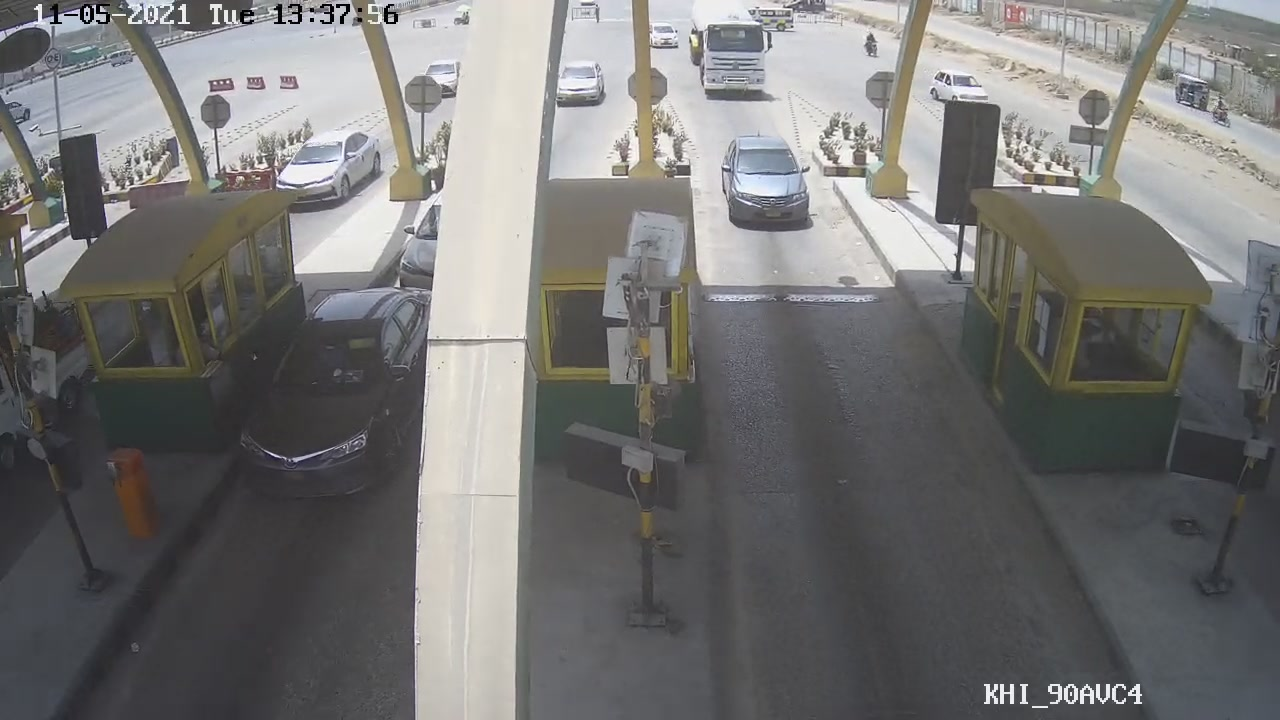F1: (715, 130, 817, 238)
